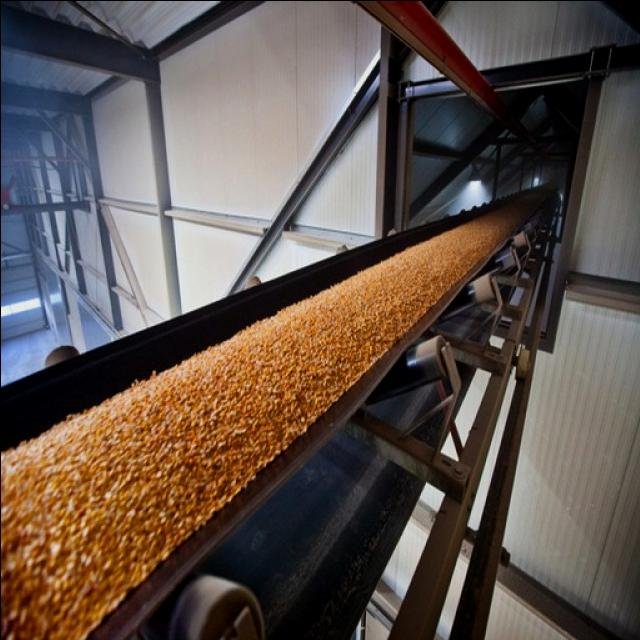conveyor: (0, 183, 558, 640)
